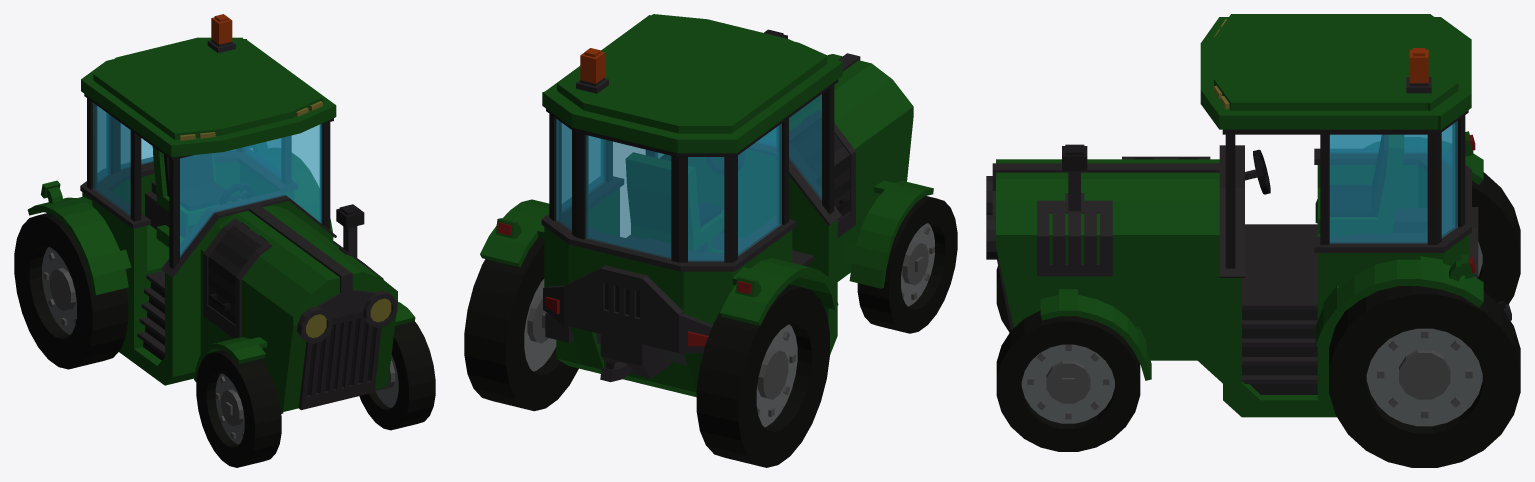
File: Tractor.obj
3 renders of one model, left to right at view 1: azimuth 30°, elevation 25°; view 2: azimuth 150°, elevation 25°; view 3: azimuth 270°, elevation 25°, orthographic. The views are drawn at different scales.
Parts seen in each view (by area): view 1: Part79, Part233, Part183, Part144, Part134, Part159, Wedge13, Part132, Part223, Wedge25, Wedge28, Part179 (+72 smaller); view 2: Part79, Part178, Part144, Part147, Part183, Part134, Part159, Part146, Part233, Wedge13, Part205, Part20 (+84 smaller); view 3: Part79, Part243, Part173, Part42, Wedge27, Part162, Wedge35, Part159, Part272, Wedge10, Part223, Part183 (+78 smaller).
Boxes of the visible parts, x1=… form: Part79: x1=93, y1=38, x2=322, y2=139; Part233: x1=180, y1=124, x2=321, y2=256; Part183: x1=165, y1=235, x2=333, y2=377; Part144: x1=93, y1=103, x2=130, y2=215; Part134: x1=200, y1=259, x2=282, y2=411; Part159: x1=81, y1=39, x2=335, y2=156; Wedge13: x1=201, y1=226, x2=310, y2=316; Part132: x1=124, y1=229, x2=169, y2=348; Part223: x1=238, y1=205, x2=362, y2=289; Wedge25: x1=218, y1=213, x2=328, y2=293; Wedge28: x1=283, y1=319, x2=306, y2=411; Part179: x1=82, y1=192, x2=147, y2=274; Part79: x1=560, y1=14, x2=827, y2=133; Part178: x1=586, y1=135, x2=671, y2=258; Part144: x1=738, y1=123, x2=781, y2=256; Part147: x1=688, y1=157, x2=724, y2=261; Part183: x1=697, y1=190, x2=837, y2=340; Part134: x1=837, y1=126, x2=901, y2=281; Part159: x1=544, y1=15, x2=842, y2=152; Part146: x1=693, y1=149, x2=775, y2=208; Part233: x1=656, y1=94, x2=821, y2=200; Wedge13: x1=834, y1=79, x2=913, y2=149; Part205: x1=568, y1=244, x2=683, y2=311; Part20: x1=600, y1=309, x2=651, y2=365; Part79: x1=1231, y1=14, x2=1430, y2=110; Part243: x1=1021, y1=246, x2=1222, y2=360; Part173: x1=1329, y1=134, x2=1427, y2=243; Part42: x1=1366, y1=328, x2=1482, y2=426; Wedge27: x1=996, y1=201, x2=1219, y2=234; Part162: x1=1242, y1=230, x2=1317, y2=299; Wedge35: x1=996, y1=179, x2=1219, y2=201; Part159: x1=1219, y1=17, x2=1440, y2=129; Part272: x1=1021, y1=344, x2=1114, y2=423; Wedge10: x1=1242, y1=310, x2=1317, y2=394; Part223: x1=996, y1=159, x2=1219, y2=179; Part183: x1=1223, y1=278, x2=1241, y2=400.
Size of the model in its own units: 13.32 by 16.47 by 21.18.
